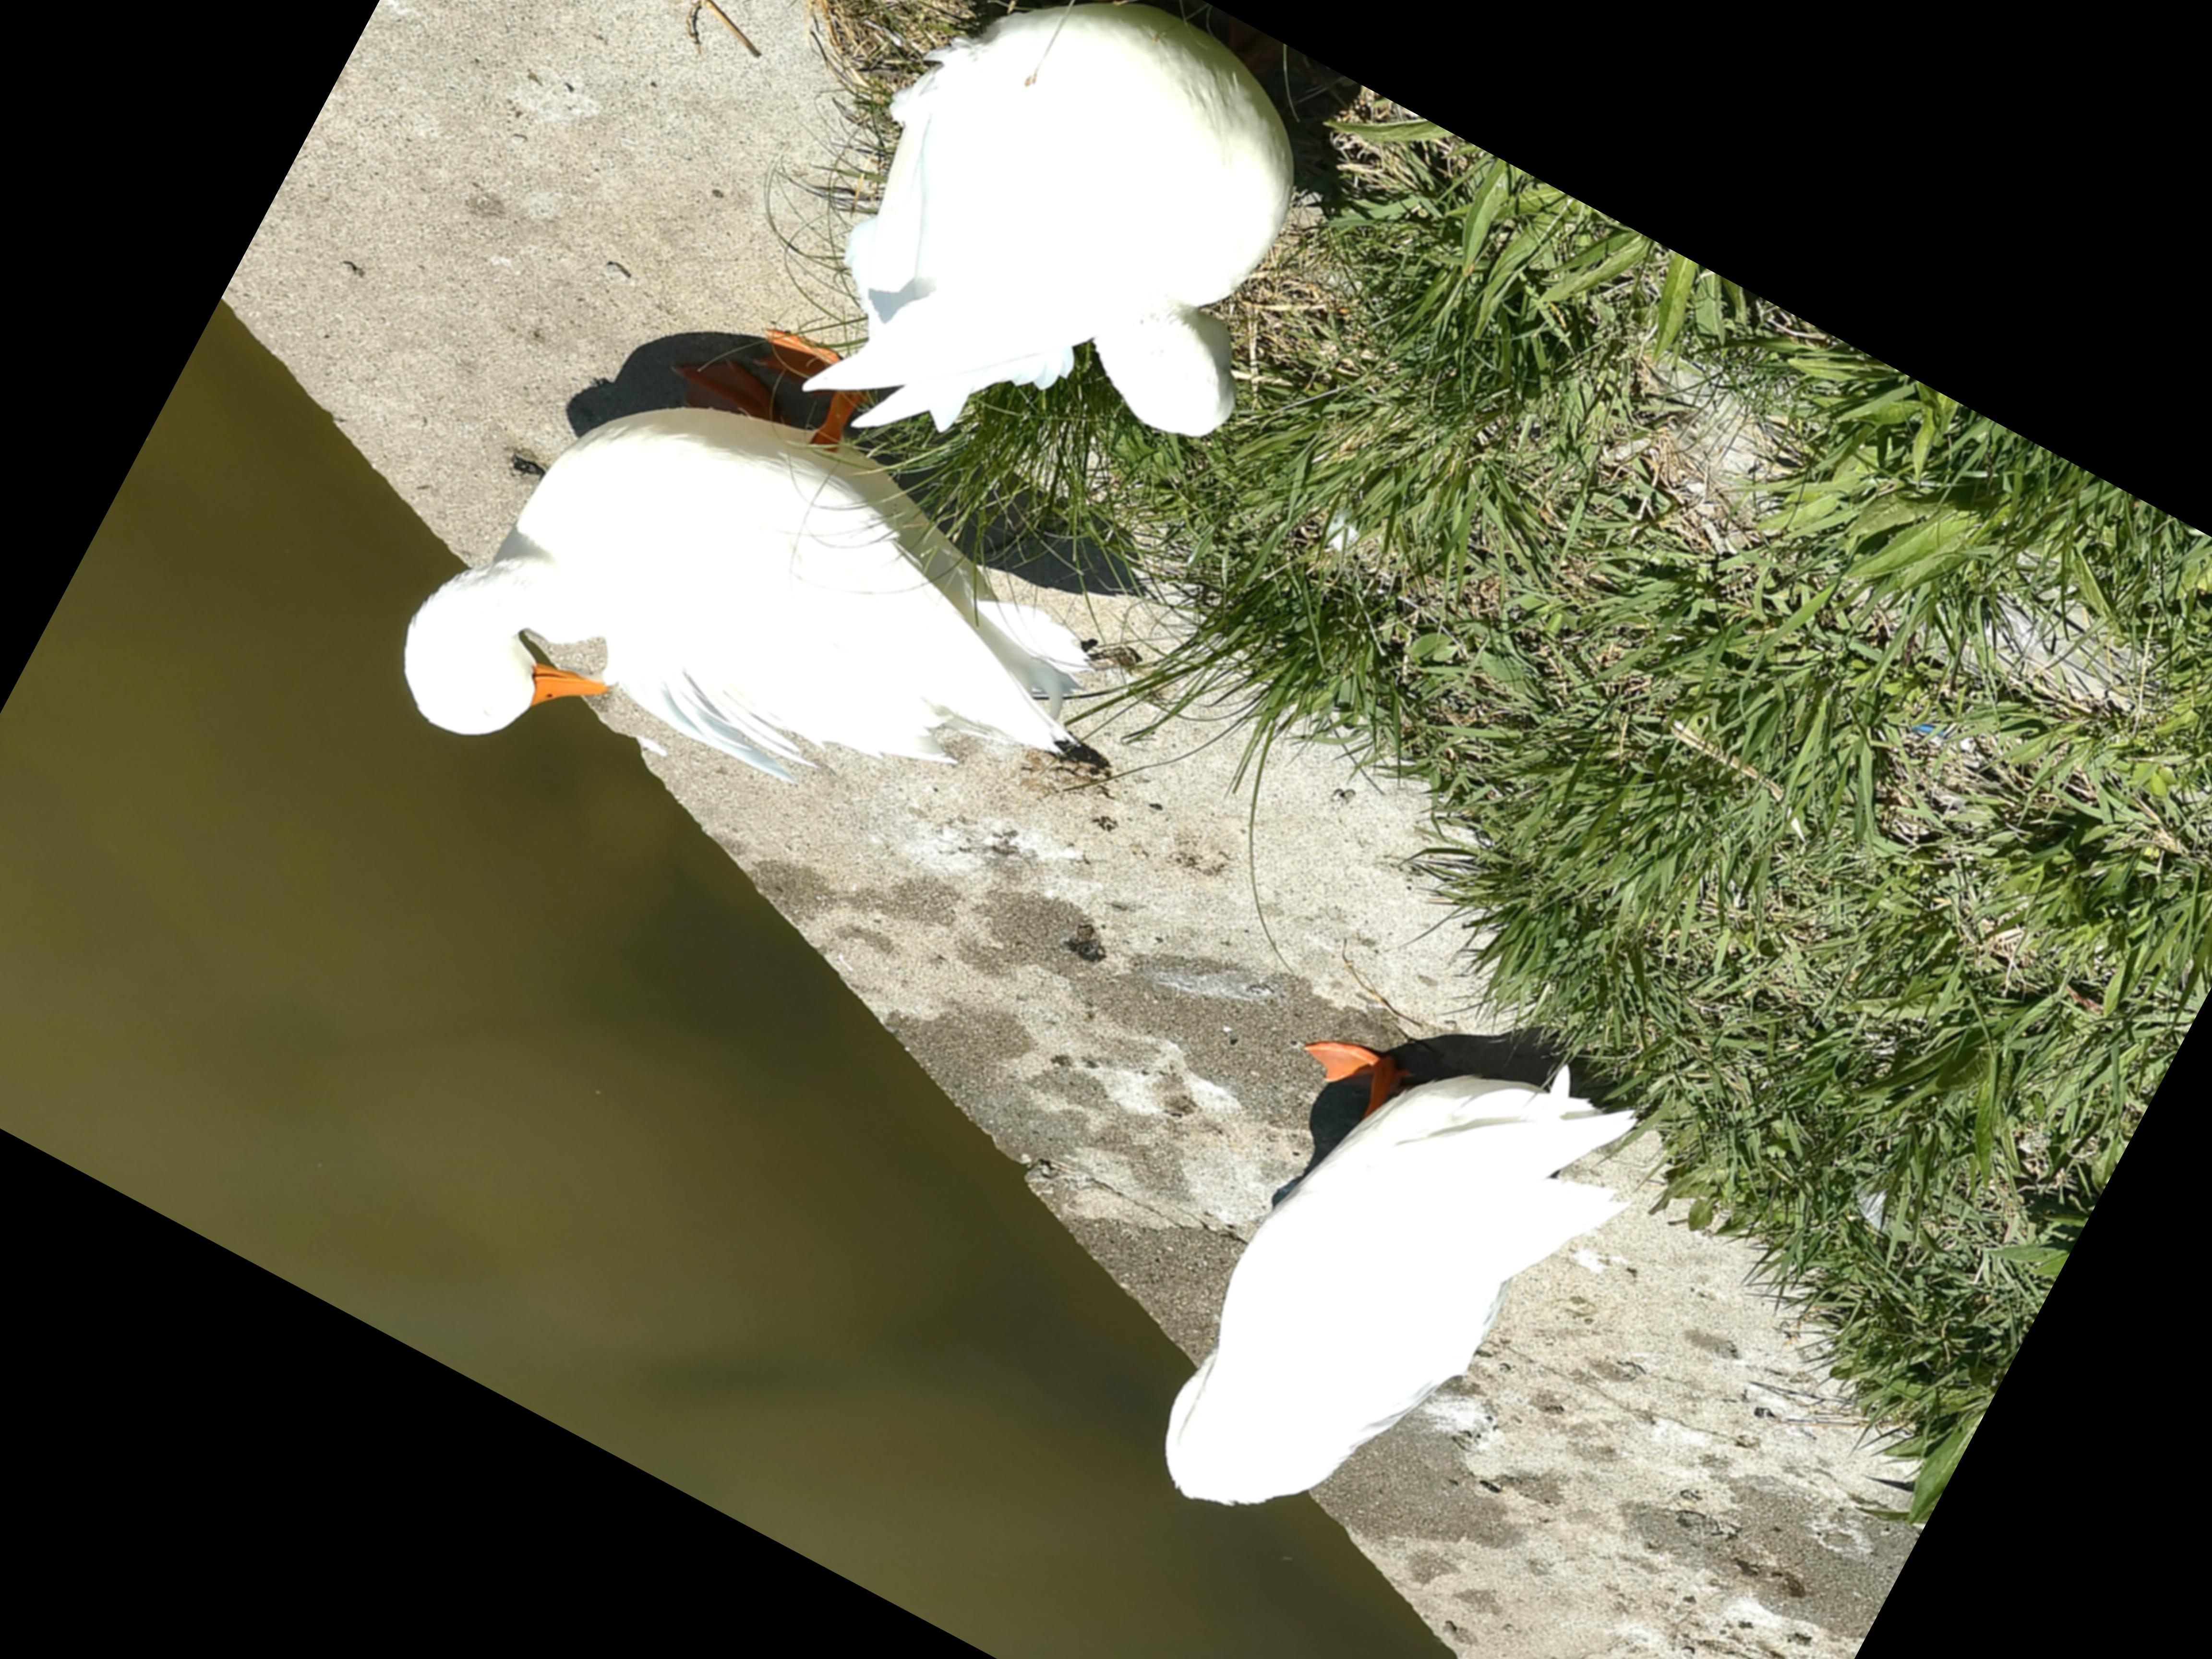duck: (319, 254, 1179, 1033), (1059, 903, 1695, 1635), (730, 0, 1388, 570)
